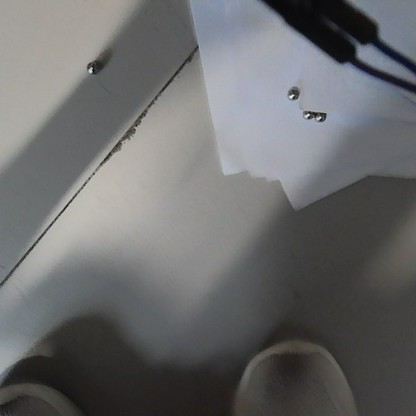ironball: (311, 108, 327, 125), (84, 59, 99, 76), (284, 85, 298, 101), (299, 108, 312, 120)
